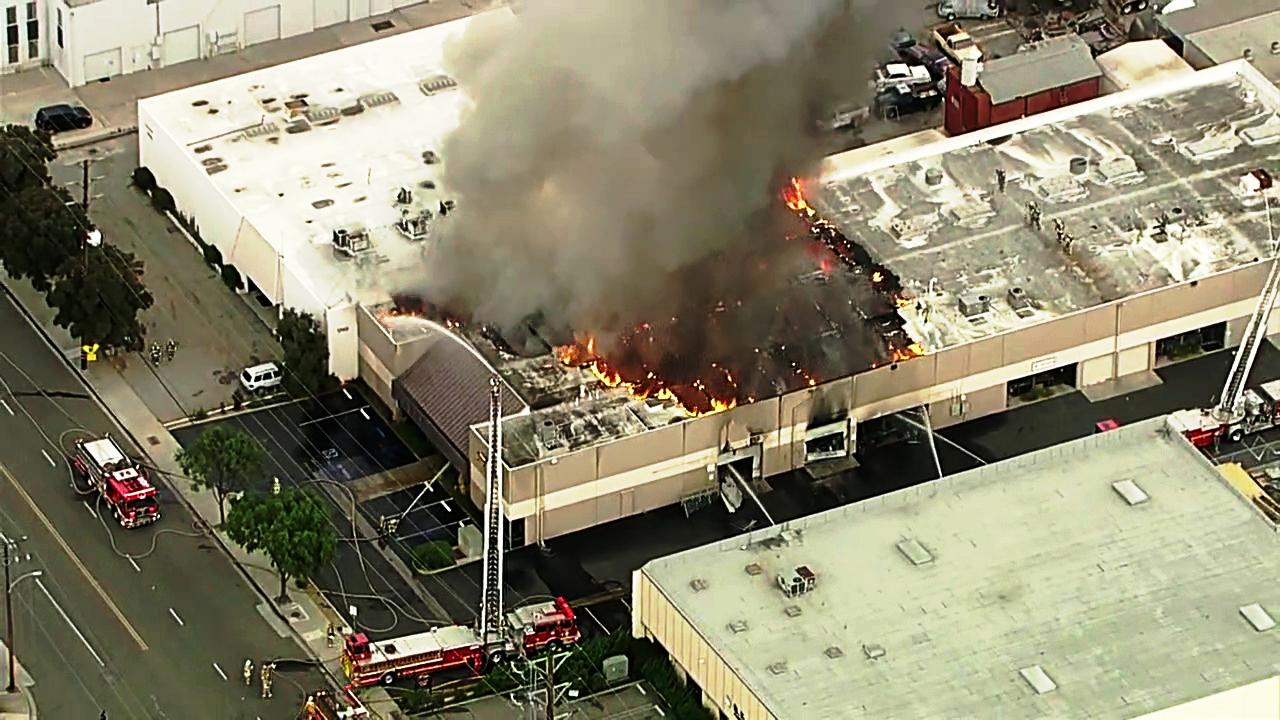smoke: (510, 2, 737, 229)
